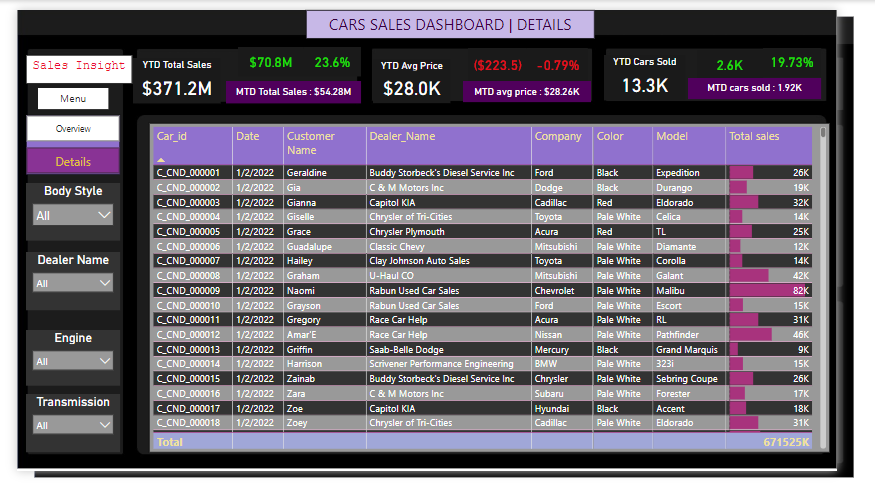

The dashboard page shown, as its layout file describes it:
{"tool":"powerbi","page":{"name":"Details","canvas":[1280,720],"ordinal":1},"visuals":[{"type":"card","title":"YTD Total Sales","fields":{"Values":["Measure_gp.YTD Total sales"]},"box":[180.7,75.2,137.3,70.8],"z":0},{"type":"card","title":"Sales Differ","fields":{"Values":["Measure_gp.Sales difference"]},"box":[345.5,57.8,102.7,46.3],"z":1000},{"type":"card","title":"Sales Differ","fields":{"Values":["Measure_gp.YoY Sales Growth"]},"box":[447.7,58.5,89.2,46.2],"z":2000},{"type":"card","fields":{"Values":["Measure_gp.MTD kpi"]},"box":[326.7,111.3,211.1,34.7],"z":3000},{"type":"card","title":"YTD Avg Price","fields":{"Values":["Measure_gp.YTD Avg price"]},"box":[556.6,76.6,121.4,69.4],"z":4000},{"type":"card","title":"Sales Differ","fields":{"Values":["Measure_gp.Avg Price Differ"]},"box":[704.7,59.4,92.2,51.6],"z":5000},{"type":"card","title":"Sales Differ","fields":{"Values":["Measure_gp.YOY Avg price"]},"box":[796.6,59.3,95.4,52],"z":6000},{"type":"card","fields":{"Values":["Measure_gp.MTD avg kpi"]},"box":[696.9,111.3,199.5,33.3],"z":7000},{"type":"card","title":"Sales Differ","fields":{"Values":["Measure_gp.cars sold diff"]},"box":[1062.7,62.2,102.7,46.3],"z":8000},{"type":"card","title":"Sales Differ","fields":{"Values":["Measure_gp.YoY cars sold Growth"]},"box":[1165.3,59.3,91.1,44.8],"z":9000},{"type":"card","fields":{"Values":["Measure_gp.MTD cars kpi"]},"box":[1048.4,106.2,207.8,32.8],"z":10000},{"type":"textbox","box":[452.3,0,450.8,44.6],"z":16000},{"type":"card","title":"YTD Cars Sold","fields":{"Values":["Measure_gp.YTD cars sold"]},"box":[916.6,70.8,127.2,70.8],"z":17000},{"type":"slicer","title":"Body Style","fields":{"Values":["car_data.Body Style"]},"box":[14.5,270.4,147.5,89.6],"z":18000},{"type":"slicer","title":"Dealer Name","fields":{"Values":["car_data.Dealer_Name"]},"box":[14.5,377.3,147.5,91.1],"z":19000},{"type":"slicer","title":"Engine","fields":{"Values":["car_data.Engine"]},"box":[14.5,500.2,147.5,86.7],"z":20000},{"type":"slicer","title":"Transmission","fields":{"Values":["car_data.Transmission"]},"box":[14.5,600,147.5,91.1],"z":21000},{"type":"tableEx","fields":{"Values":["car_data.Car_id","calender table.Date","car_data.Customer Name","car_data.Dealer_Name","car_data.Company","car_data.Color","car_data.Model","Measure_gp.Total sales"]},"box":[206.7,176.4,1064.1,514.7],"z":21001},{"type":"textbox","box":[14.5,70.8,166.3,44.8],"z":21002},{"type":"textbox","box":[33.3,121.4,109.9,33.3],"z":21003},{"type":"pageNavigator","box":[14.5,164.8,147.5,92.5],"z":21004}]}

Visuals, with their boxes in screenshot pixels (x1, y1, x2, y2), scaled from the page's 1280x720 canvas onto the 875x497 screenshot:
"YTD Total Sales" card: Rect(124, 52, 217, 101)
"Sales Differ" card: Rect(236, 40, 306, 72)
"Sales Differ" card: Rect(306, 40, 367, 72)
card - Measure_gp.MTD kpi: Rect(223, 77, 368, 101)
"YTD Avg Price" card: Rect(380, 53, 463, 101)
"Sales Differ" card: Rect(482, 41, 545, 77)
"Sales Differ" card: Rect(545, 41, 610, 77)
card - Measure_gp.MTD avg kpi: Rect(476, 77, 613, 100)
"Sales Differ" card: Rect(726, 43, 797, 75)
"Sales Differ" card: Rect(797, 41, 859, 72)
card - Measure_gp.MTD cars kpi: Rect(717, 73, 859, 96)
textbox: Rect(309, 0, 617, 31)
"YTD Cars Sold" card: Rect(627, 49, 714, 98)
"Body Style" slicer: Rect(10, 187, 111, 248)
"Dealer Name" slicer: Rect(10, 260, 111, 323)
"Engine" slicer: Rect(10, 345, 111, 405)
"Transmission" slicer: Rect(10, 414, 111, 477)
tableEx - car_data.Car_id x calender table.Date: Rect(141, 122, 869, 477)
textbox: Rect(10, 49, 124, 80)
textbox: Rect(23, 84, 98, 107)
pageNavigator: Rect(10, 114, 111, 178)
